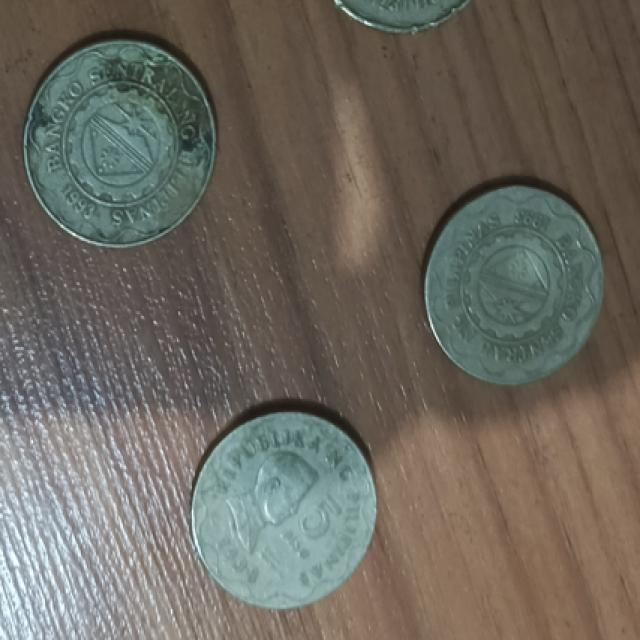5_peso: (24, 41, 214, 244), (193, 412, 375, 607), (424, 186, 603, 384)
